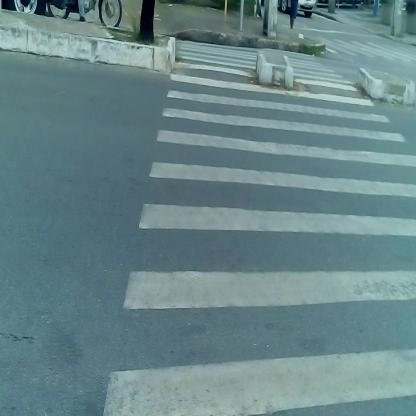crosswalk: (127, 65, 404, 416), (321, 29, 406, 66)
sidewalk: (149, 17, 329, 71)
